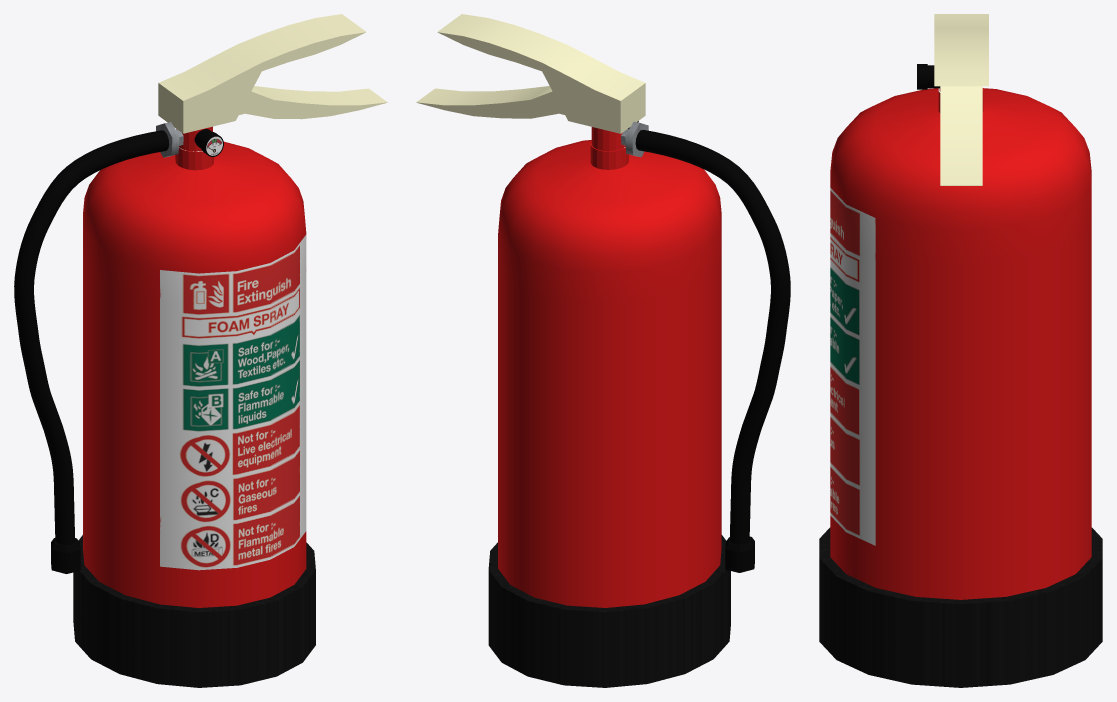
File: AlatApar.fbx
The picture shows the model from 3 angles, left to right: view 1: azimuth 30°, elevation 25°; view 2: azimuth 150°, elevation 25°; view 3: azimuth 270°, elevation 25°; orthographic projection. The views are drawn at different scales.
Parts seen in each view (by area): view 1: Cylinder001, Line001, Box001, Box002, Cylinder002; view 2: Cylinder001, Line001, Box001, Box002; view 3: Cylinder001, Box002, Box001, Cylinder002.
Boxes of the visible parts, left/top/right/bottom form: Cylinder001: left=73, top=126, right=315, bottom=687; Line001: left=14, top=130, right=169, bottom=573; Box001: left=158, top=14, right=366, bottom=133; Box002: left=239, top=86, right=387, bottom=119; Cylinder002: left=194, top=129, right=223, bottom=156; Cylinder001: left=488, top=127, right=730, bottom=687; Line001: left=635, top=130, right=790, bottom=572; Box001: left=437, top=14, right=645, bottom=133; Box002: left=416, top=86, right=564, bottom=118; Cylinder001: left=819, top=88, right=1102, bottom=687; Box002: left=940, top=86, right=982, bottom=185; Box001: left=934, top=14, right=988, bottom=86; Cylinder002: left=917, top=64, right=940, bottom=89.
Bounding box in the file's own units: 45.59 × 68.9 × 27.86.
